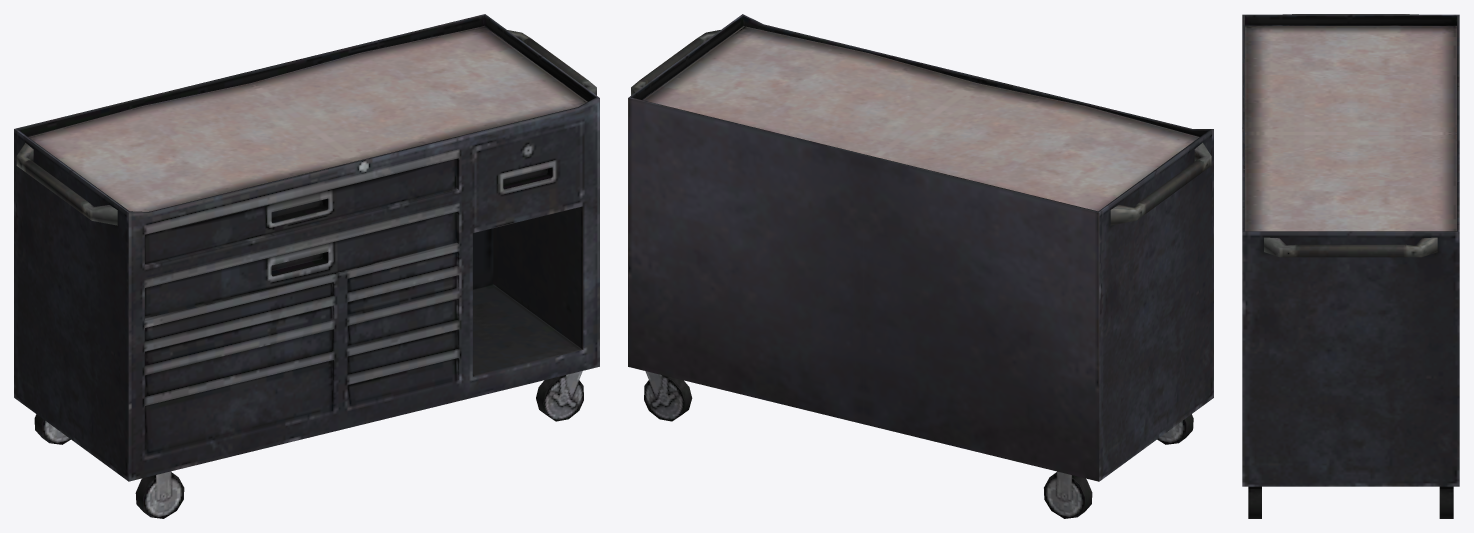
File: ToolBench01.FBX
3 views of the same model, side by side, from view 1: azimuth 30°, elevation 25°; view 2: azimuth 150°, elevation 25°; view 3: azimuth 270°, elevation 25° (orthographic). The views are drawn at different scales.
Visible parts, largest first — view 1: ToolBench01; view 2: ToolBench01; view 3: ToolBench01.
Part boxes in pixels (x1=…): ToolBench01: x1=14, y1=14, x2=599, y2=518; ToolBench01: x1=628, y1=14, x2=1213, y2=518; ToolBench01: x1=1242, y1=14, x2=1459, y2=518.
Bounding box in the file's own units: 1.67 × 1 × 0.6545.
